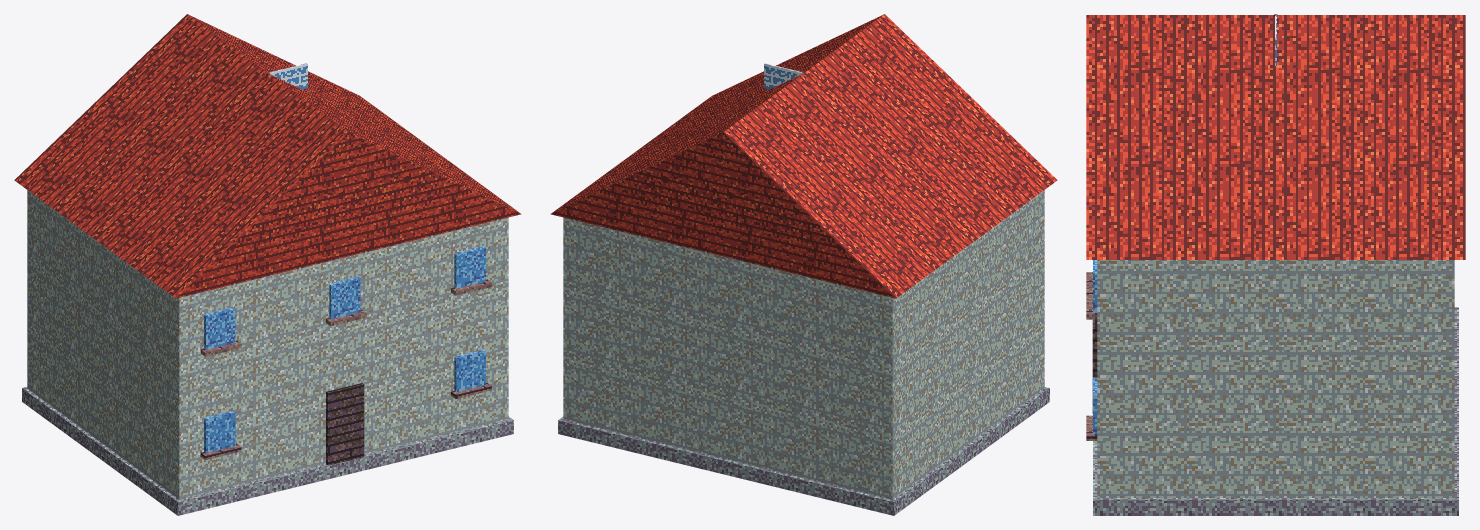
The model's file is camara_governador.glb.
The picture shows the model from 3 angles, left to right: view 1: azimuth 30°, elevation 25°; view 2: azimuth 150°, elevation 25°; view 3: azimuth 270°, elevation 25°; orthographic projection. The views are drawn at different scales.
Parts seen in each view (by area): view 1: camara_governador; view 2: camara_governador; view 3: camara_governador.
Boxes of the visible parts, x1,y1,x2,y2 form: camara_governador: [14, 14, 521, 515]; camara_governador: [550, 14, 1057, 515]; camara_governador: [1086, 14, 1465, 515].
Size of the model in its own units: 10.5 by 10 by 8.5.
Materials: 7 (7 with a texture image).
